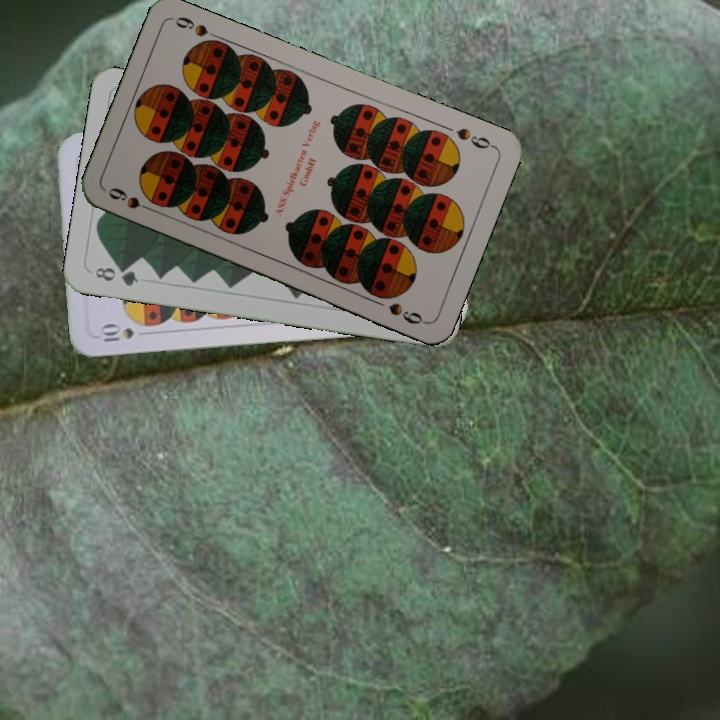G8: (91, 263, 141, 289)
S10: (96, 322, 137, 344)
S9: (104, 183, 160, 216), (452, 123, 498, 152)
